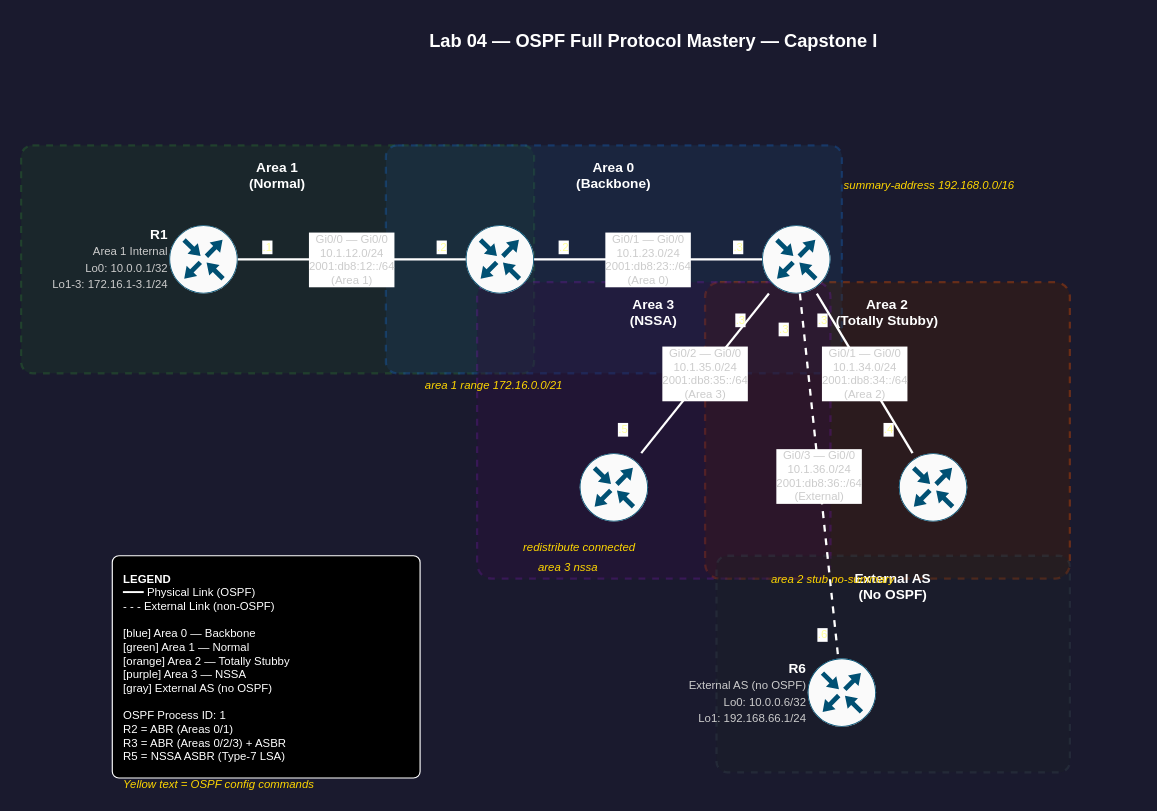
This 1157x811 diagram has some shape labels left out. The centre of each missing label's shape, as x and y in pixels:
"R2 ABR (Area 0/1) Lo0: 10.0.0.2/32" belongs at (499,259).
"R3 ABR+ASBR (Area 0/2/3) Lo0: 10.0.0.3/32" belongs at (795,259).
"R4 Area 2 Internal (Totally Stubby) Lo0: 10.0.0.4/32 Lo1: 172.16.4.1/24" belongs at (932,487).
"R5 Area 3 NSSA ASBR Lo0: 10.0.0.5/32 Lo1: 172.16.5.1/24 Lo2: 192.168.55.1/24" belongs at (613,487).
